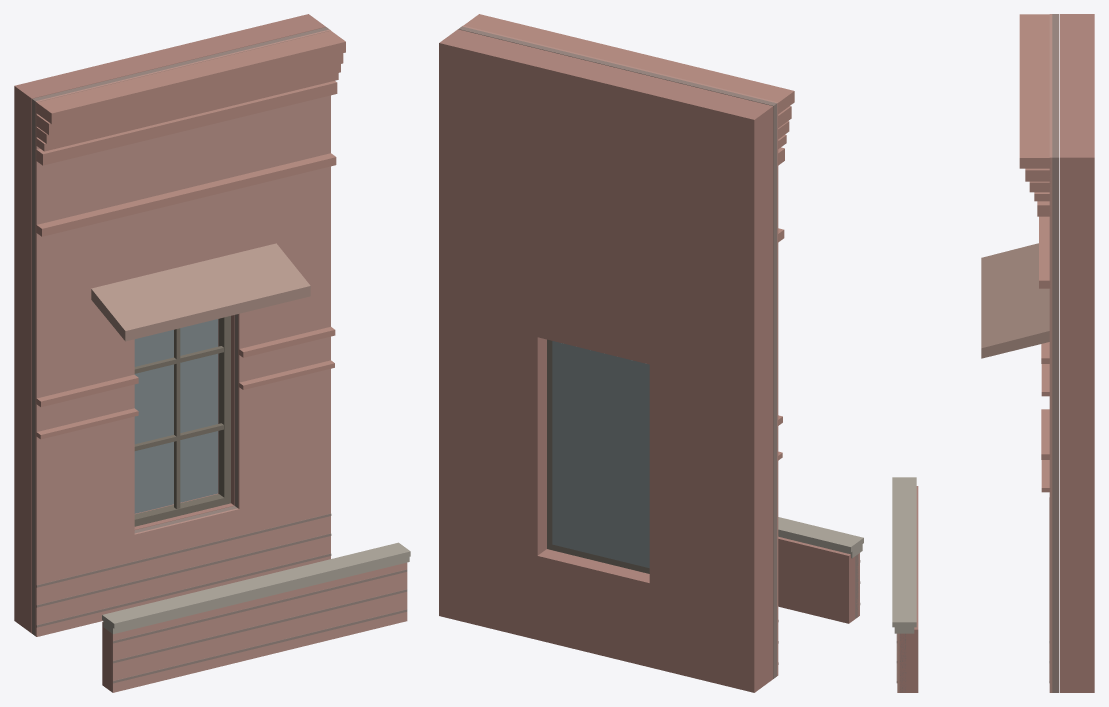
Rendered from huangpu-kemei-hospital-west-hooded-window-lod.glb.
3 renders of one model, left to right at view 1: azimuth 30°, elevation 25°; view 2: azimuth 150°, elevation 25°; view 3: azimuth 270°, elevation 25°, orthographic. The views are drawn at different scales.
Visible parts, largest first — view 1: 克美产科医院旧址西墙挑檐窗; view 2: 克美产科医院旧址西墙挑檐窗; view 3: 克美产科医院旧址西墙挑檐窗.
Part boxes in pixels (x1=…): 克美产科医院旧址西墙挑檐窗: x1=14, y1=14, x2=410, y2=692; 克美产科医院旧址西墙挑檐窗: x1=439, y1=14, x2=863, y2=692; 克美产科医院旧址西墙挑檐窗: x1=892, y1=14, x2=1094, y2=692.
Size of the model in its own units: 2.45 by 4.22 by 1.44.
